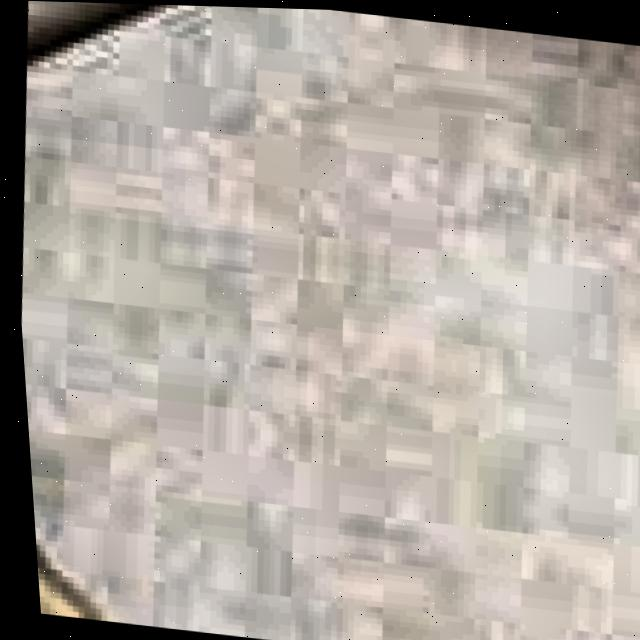paper: (16, 4, 640, 640)
